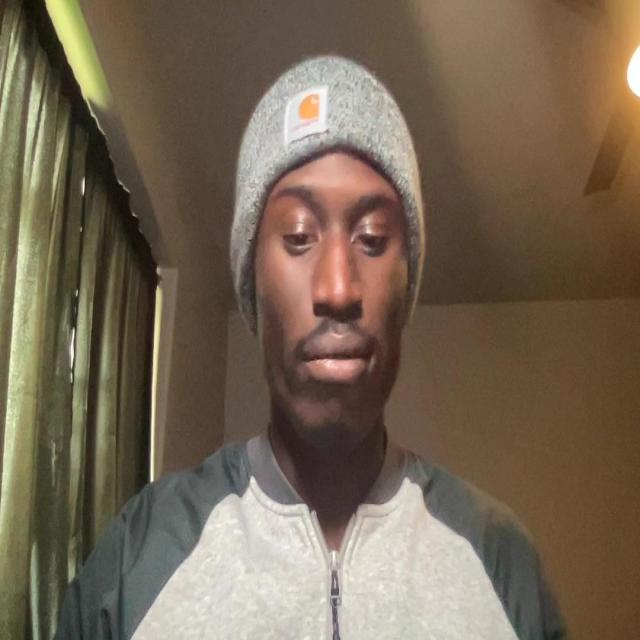face: (252, 116, 416, 455)
